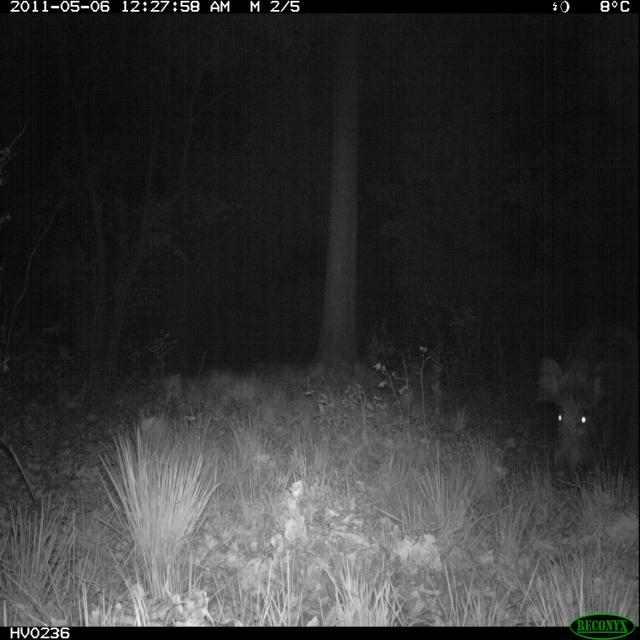boar: (525, 282, 635, 499)
